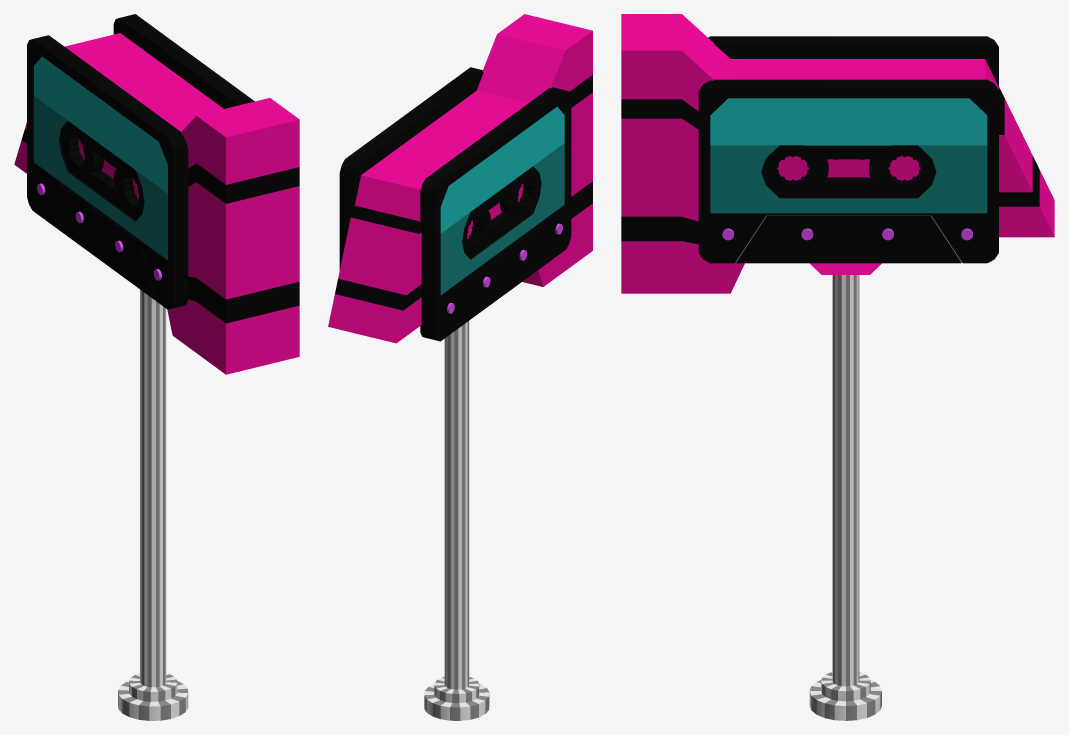
File: MarteleoFitaCassete.fbx
The picture shows the model from 3 angles, left to right: view 1: azimuth 30°, elevation 25°; view 2: azimuth 150°, elevation 25°; view 3: azimuth 270°, elevation 25°; orthographic projection. The views are drawn at different scales.
Visible parts, largest first — view 1: MarteloFItaCassete; view 2: MarteloFItaCassete; view 3: MarteloFItaCassete.
Part boxes in pixels (x1,y1,x2,y2): MarteloFItaCassete: [14, 14, 299, 720]; MarteloFItaCassete: [328, 14, 592, 720]; MarteloFItaCassete: [621, 14, 1054, 720].
Size of the model in its own units: 114 by 664 by 387.
